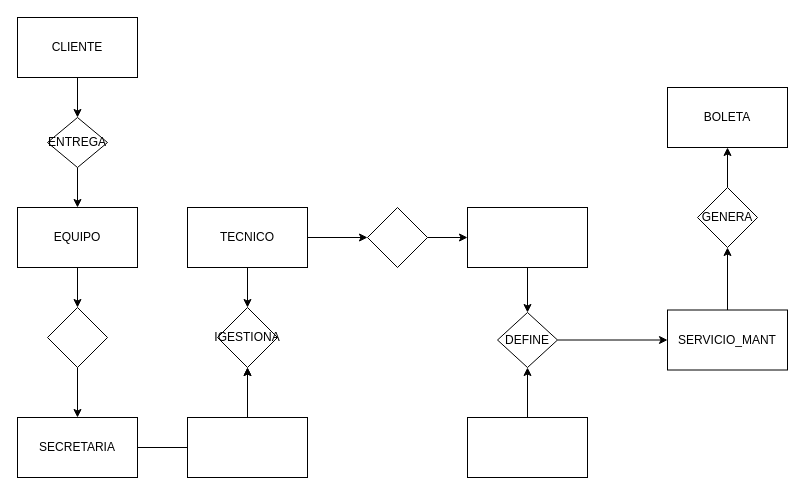
Image size: 805x495. Some labels were removed from this diagram. The shapes that lost their labels are listed below. From the top down, each one's centre as x and y in pixels, then its label:
the point at 397,237: INGRESA
the point at 527,237: REGISTRO_MANT
the point at 77,337: RECIBE
the point at 247,447: SUPERVISOR
the point at 527,447: ADMIN SERTEC
